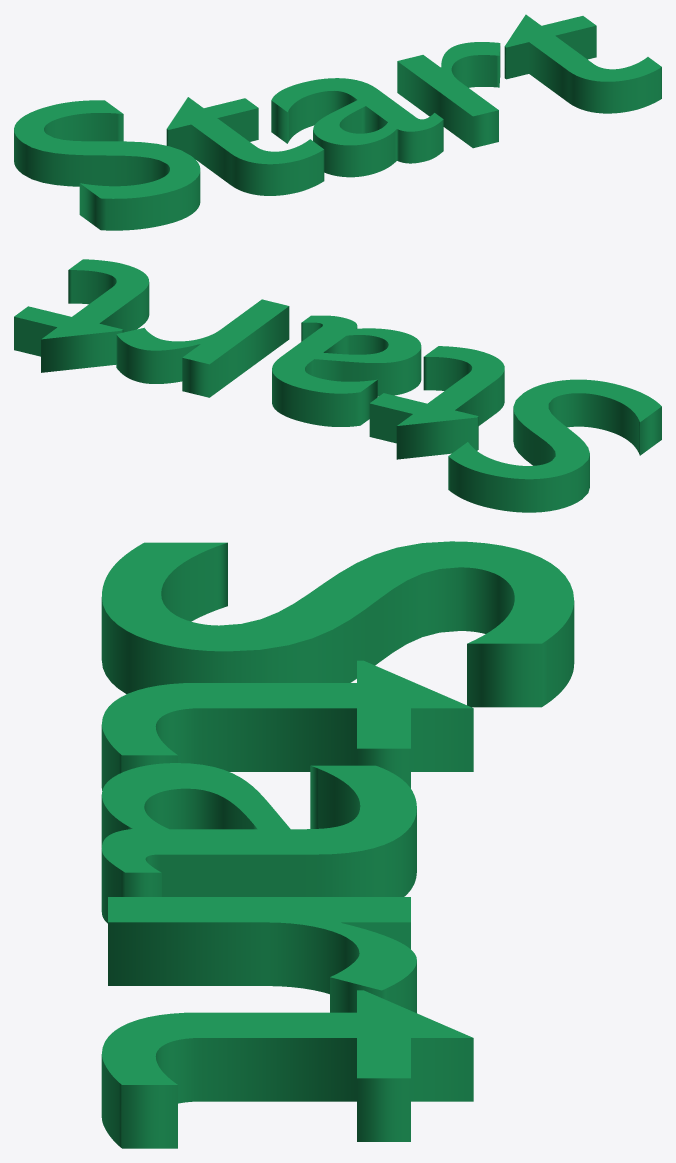
The model's file is start.obj.
3 renders of one model, top to bottom at view 1: azimuth 30°, elevation 25°; view 2: azimuth 150°, elevation 25°; view 3: azimuth 270°, elevation 25°, orthographic. The views are drawn at different scales.
Visible parts, largest first — view 1: Text; view 2: Text; view 3: Text.
Boxes of the visible parts, left/top/right/bottom form: Text: left=14, top=14, right=661, bottom=230; Text: left=14, top=259, right=661, bottom=512; Text: left=101, top=541, right=574, bottom=1148.
Bounding box in the file's own units: 1.91 × 0.104 × 0.7.
